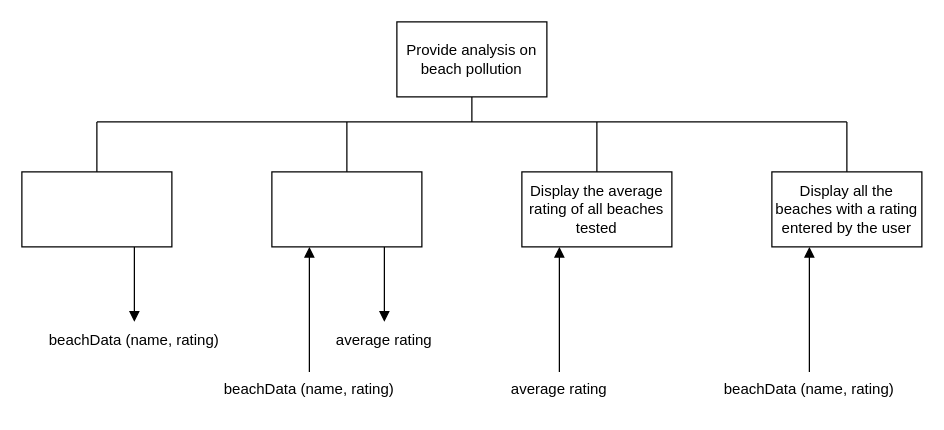
This 944x430 diagram has some shape labels left out. The shapes that lost their labels are listed below. From the top down, each one's centre as x and y in pixels, then its label:
point (96, 209): Read in beach names and ratings from file
point (346, 209): Calculate and return the average rating of all beaches tested
